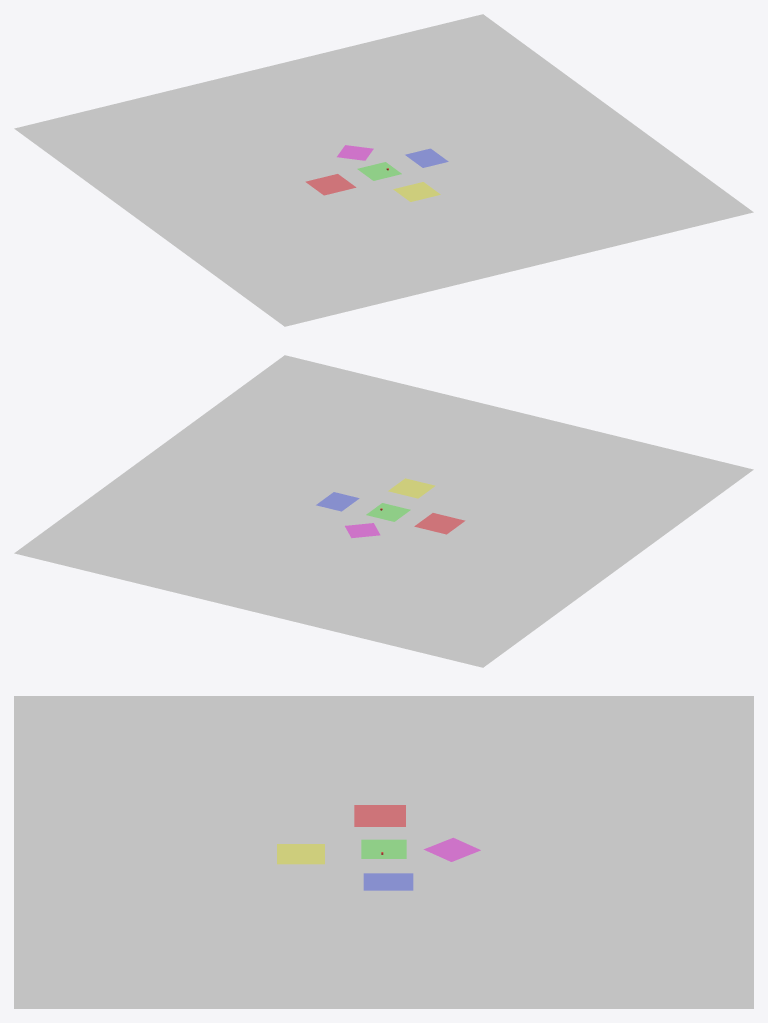
Rendered from Floor.glb.
3 views of the same model, one above another, from view 1: azimuth 30°, elevation 25°; view 2: azimuth 150°, elevation 25°; view 3: azimuth 270°, elevation 25° (orthographic). The views are drawn at different scales.
Visible parts, largest first — view 1: Floor, Products, ContactUs; view 2: Floor, Products, ContactUs; view 3: Floor, Products, ContactUs, AboutUs, Home, Service.
Part boxes in pixels (x1,y1,x2,y2): Floor: [14, 14, 753, 326]; Products: [305, 174, 356, 195]; ContactUs: [393, 182, 440, 201]; Floor: [14, 355, 753, 667]; Products: [414, 513, 465, 534]; ContactUs: [388, 478, 435, 498]; Floor: [14, 696, 753, 1008]; Products: [354, 805, 405, 826]; ContactUs: [277, 844, 324, 864]; AboutUs: [363, 873, 413, 890]; Home: [361, 839, 406, 858]; Service: [423, 837, 480, 861].
Bounding box in the file's own units: 131 × 0.4095 × 131.
